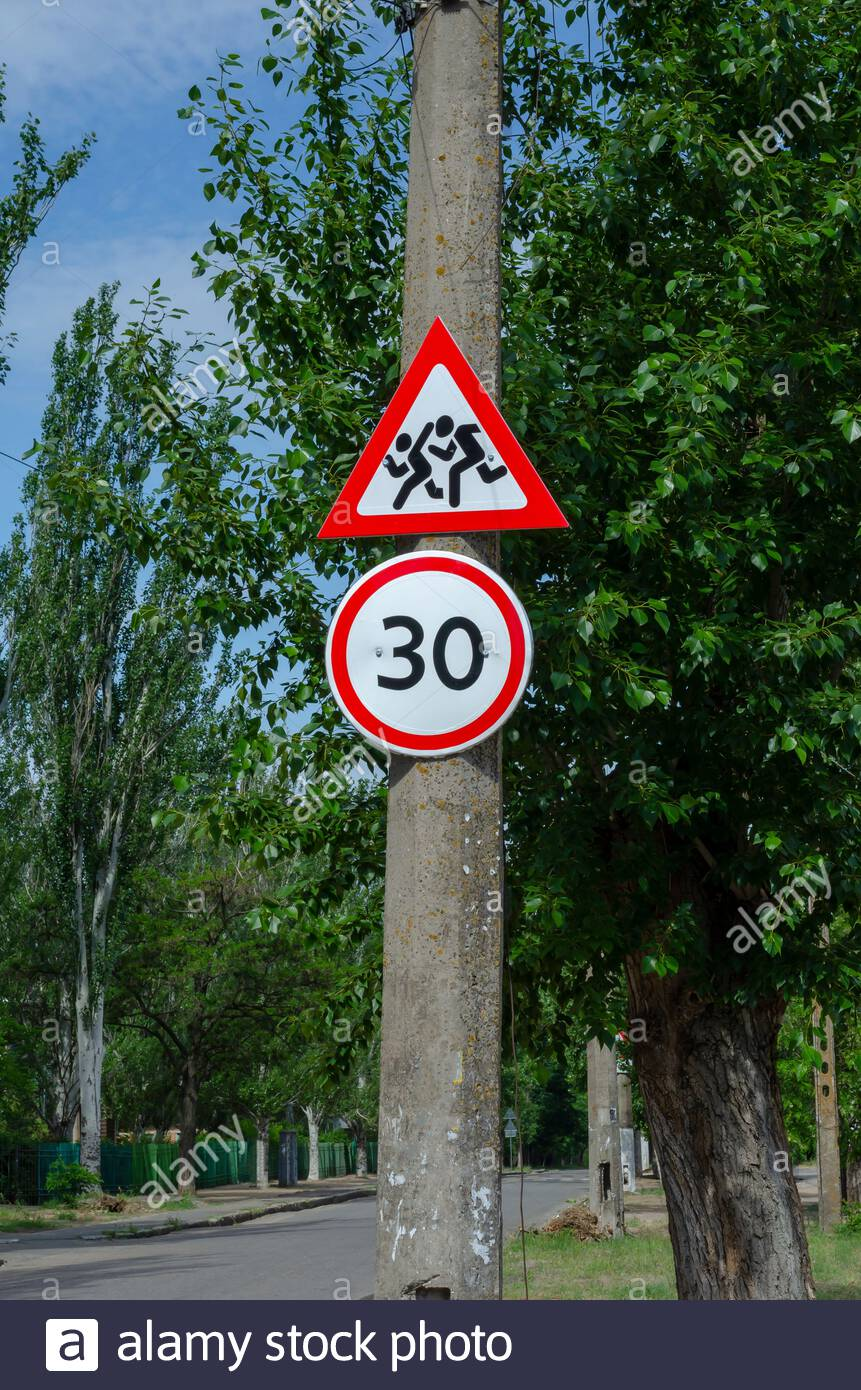speed_limit_30: (331, 552, 529, 756)
